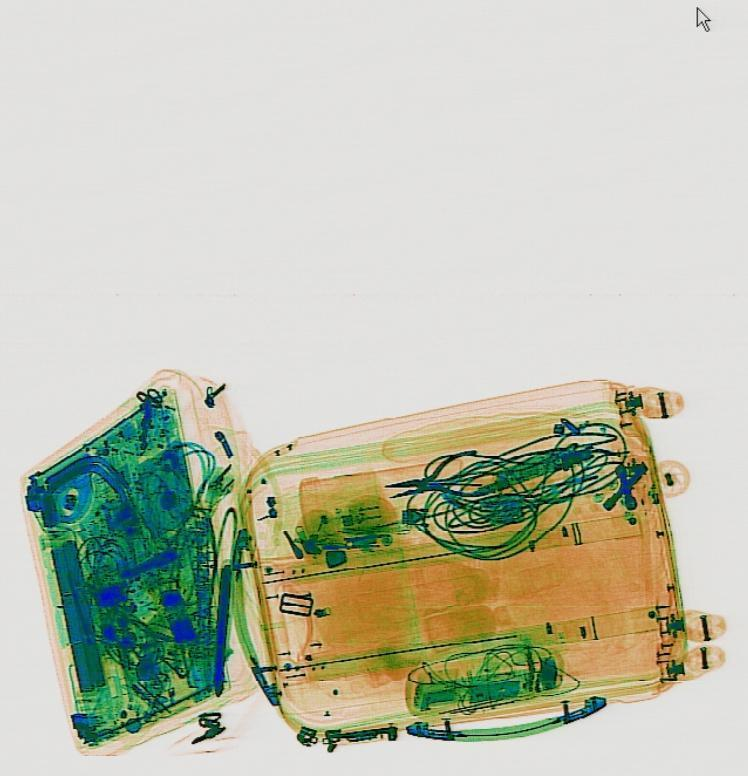Pliers: (379, 447, 487, 514)
